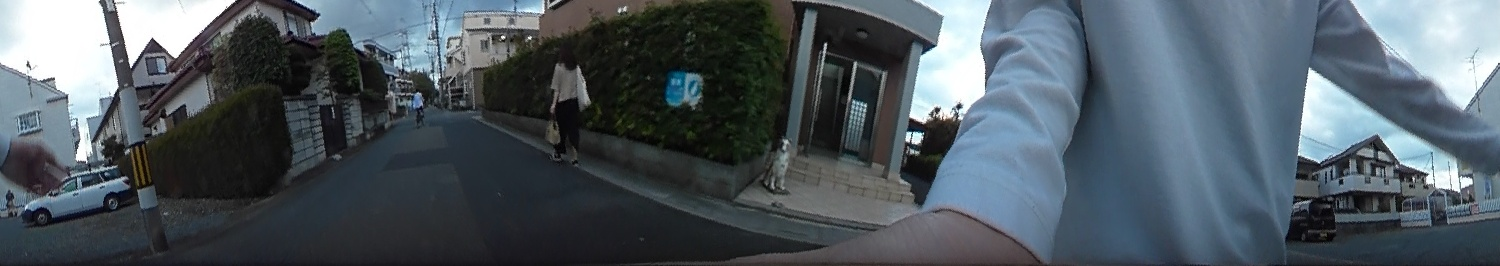difficult_person: (408, 86, 425, 121)
person: (545, 41, 587, 164)
